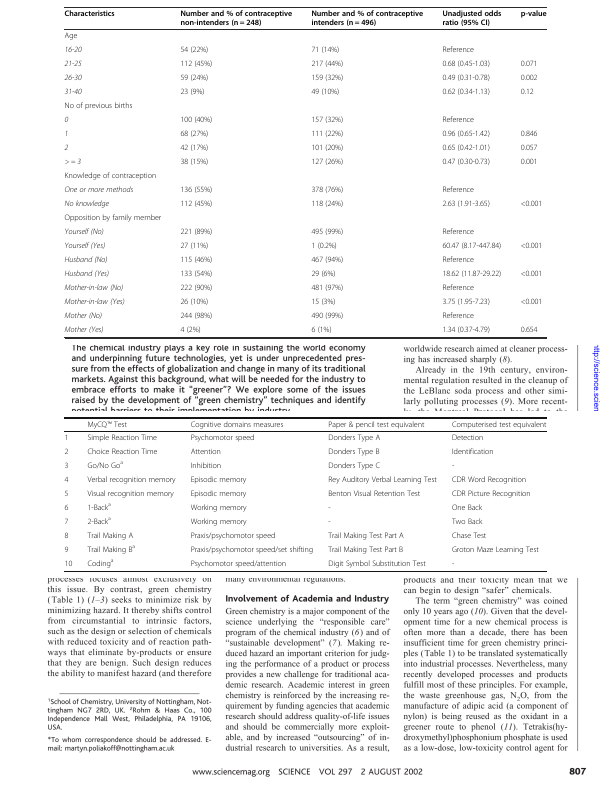borderless: (63, 6, 546, 337), (64, 416, 547, 571)
cell: (179, 10, 293, 28), (310, 10, 424, 28), (190, 545, 314, 555), (327, 475, 438, 485), (441, 10, 502, 28), (327, 559, 427, 569), (64, 214, 162, 224), (190, 559, 287, 569), (327, 489, 421, 499), (64, 172, 157, 182), (86, 475, 176, 485), (86, 489, 175, 499), (451, 545, 540, 555), (327, 420, 425, 429), (451, 420, 547, 429), (190, 531, 276, 541), (190, 420, 284, 429), (451, 489, 532, 499), (327, 531, 405, 541), (327, 545, 404, 555), (451, 475, 527, 485), (86, 433, 158, 443), (86, 447, 158, 457), (64, 102, 133, 112), (190, 433, 255, 443), (64, 186, 134, 195), (441, 242, 502, 252), (441, 270, 502, 280), (86, 543, 136, 555), (190, 503, 248, 513), (190, 517, 248, 527), (190, 475, 247, 485), (190, 489, 247, 499), (64, 298, 126, 307), (64, 284, 124, 293), (327, 433, 381, 443), (327, 461, 381, 471), (327, 447, 380, 457), (441, 60, 491, 70), (441, 74, 491, 84), (441, 88, 491, 98), (441, 130, 491, 140), (441, 144, 491, 154), (441, 158, 491, 168), (441, 200, 491, 210), (441, 298, 491, 308), (441, 326, 491, 336), (86, 531, 134, 541), (64, 10, 116, 19), (64, 200, 110, 210), (86, 459, 124, 471), (451, 447, 494, 457), (64, 270, 110, 279), (64, 256, 108, 265), (64, 242, 106, 251), (86, 420, 128, 429), (64, 228, 105, 237), (64, 326, 104, 335), (451, 531, 487, 541), (64, 312, 103, 321), (441, 46, 475, 56), (179, 60, 213, 70), (310, 60, 344, 70), (310, 74, 344, 84), (179, 116, 213, 126), (310, 116, 344, 126), (441, 116, 475, 126), (310, 130, 344, 140), (310, 144, 344, 154), (310, 158, 344, 168), (179, 186, 213, 196), (310, 186, 344, 196), (441, 186, 475, 196), (179, 200, 213, 210), (310, 200, 344, 210), (179, 228, 213, 238), (310, 228, 344, 238), (441, 228, 475, 238), (179, 256, 213, 266), (310, 256, 344, 266), (441, 256, 475, 266), (179, 270, 213, 280), (179, 284, 213, 294), (310, 284, 344, 294), (441, 284, 475, 294), (179, 312, 213, 322), (310, 312, 344, 322), (441, 312, 475, 322), (86, 557, 114, 569), (451, 433, 484, 443), (190, 447, 222, 457), (190, 461, 222, 471), (451, 503, 483, 513), (451, 517, 483, 527), (86, 501, 112, 513), (86, 515, 112, 527), (179, 46, 209, 56), (310, 46, 340, 56), (179, 74, 209, 84), (310, 88, 340, 98), (179, 130, 209, 140), (179, 144, 209, 154), (179, 158, 209, 168), (179, 242, 209, 252), (179, 298, 209, 308), (310, 242, 338, 252), (179, 88, 205, 98), (310, 270, 336, 280), (310, 298, 336, 308), (520, 10, 547, 19), (520, 200, 543, 210), (520, 242, 543, 252), (520, 270, 543, 280), (520, 298, 543, 308), (179, 326, 201, 336), (310, 326, 332, 336), (520, 60, 538, 70), (520, 74, 538, 84), (520, 130, 538, 140), (520, 144, 538, 154), (520, 158, 538, 168), (520, 326, 538, 336), (64, 46, 82, 55), (64, 60, 82, 69), (64, 74, 82, 83), (64, 88, 82, 97), (64, 158, 82, 167), (520, 88, 535, 98), (64, 32, 78, 42), (64, 559, 73, 569), (63, 433, 69, 443), (63, 447, 69, 457), (63, 461, 69, 471), (64, 475, 69, 485), (64, 489, 69, 499), (64, 503, 69, 513), (327, 503, 332, 513), (64, 517, 69, 527), (327, 517, 332, 527), (64, 531, 69, 541), (64, 545, 69, 555), (64, 116, 69, 125), (64, 130, 69, 139), (64, 144, 69, 153), (451, 461, 455, 471), (451, 559, 455, 569)
